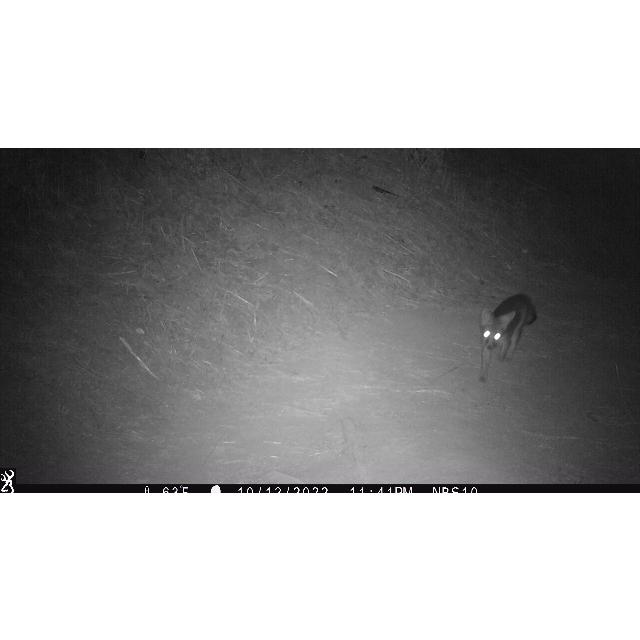animals: (478, 293, 538, 382)
